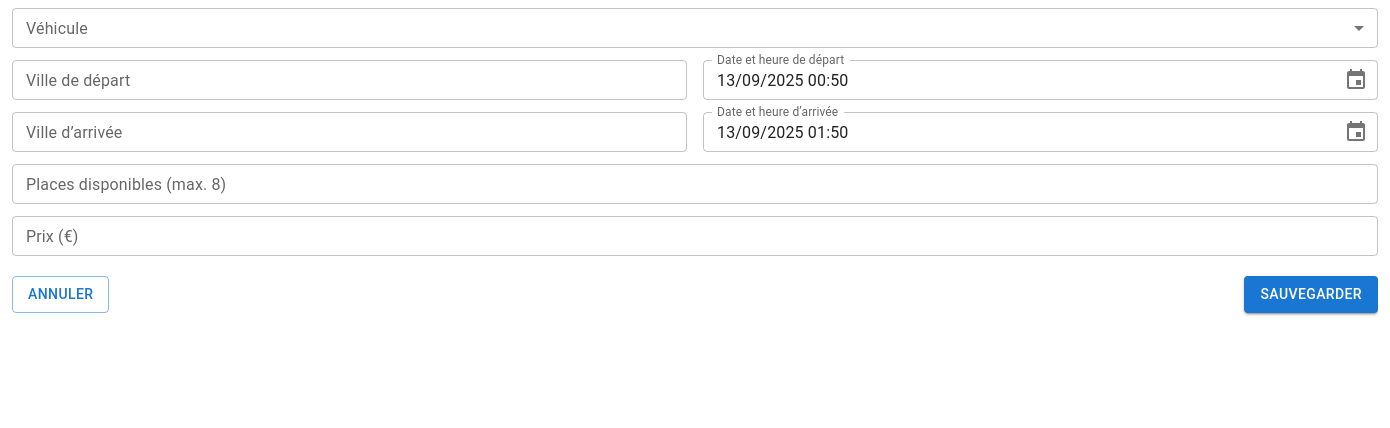
Test case: TripForm › displays an error if no vehicle is selected
This screenshot has width=1390, height=428.
Step 1. Click the button "Sauvegarder" → [1311, 294], box [1244,276,1378,312]
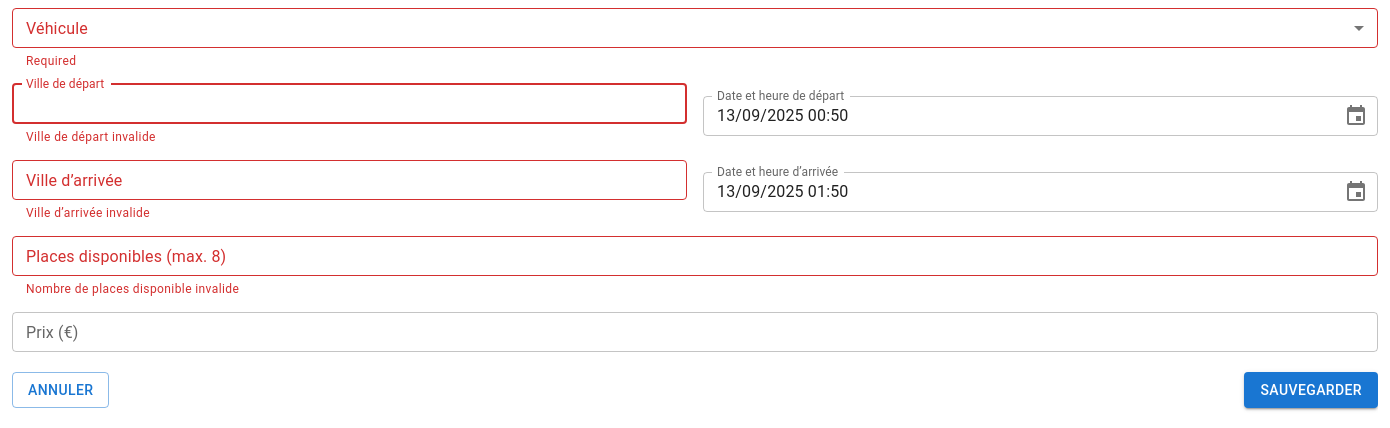
Now the text "Required" is shown, box [26,54,76,68]
